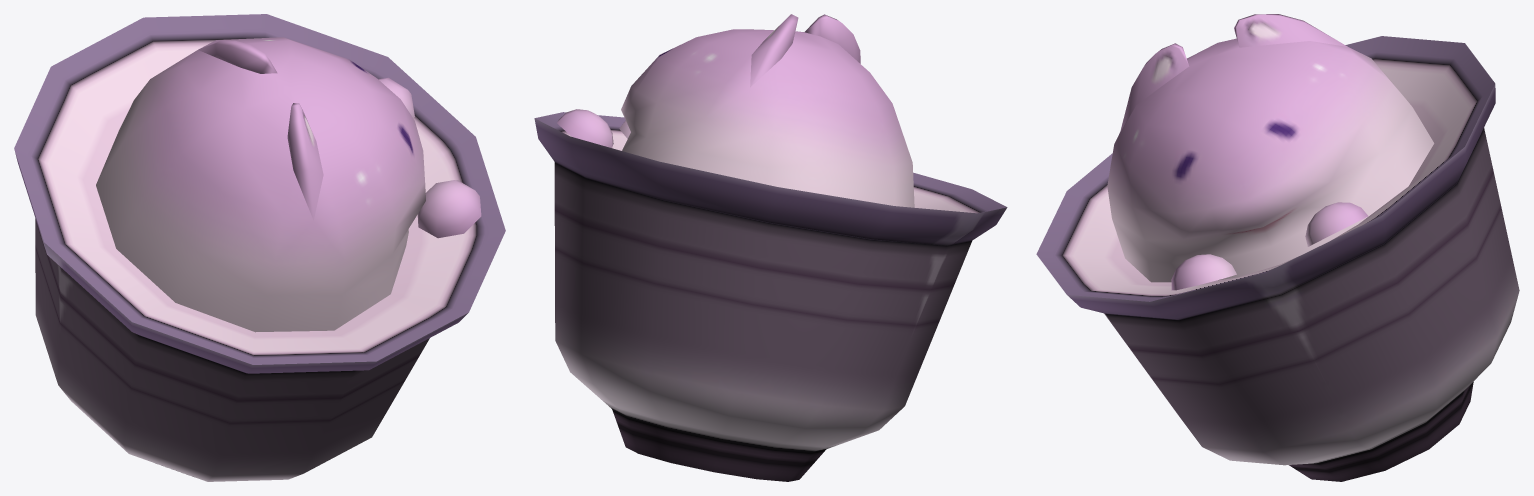
Rendered from Bowl.glb.
3 views of the same model, side by side, from view 1: azimuth 30°, elevation 25°; view 2: azimuth 150°, elevation 25°; view 3: azimuth 270°, elevation 25° (orthographic). The views are drawn at different scales.
Visible parts, largest first — view 1: SkillObj_Mizuki_Bowl_LOD0; view 2: SkillObj_Mizuki_Bowl_LOD0; view 3: SkillObj_Mizuki_Bowl_LOD0.
Boxes of the visible parts, x1,y1,x2,y2 form: SkillObj_Mizuki_Bowl_LOD0: (14,14,505,481); SkillObj_Mizuki_Bowl_LOD0: (534,14,1007,481); SkillObj_Mizuki_Bowl_LOD0: (1036,14,1519,481).
Size of the model in its own units: 0.1206 by 0.1203 by 0.1188.
1 material, 1 textured.
